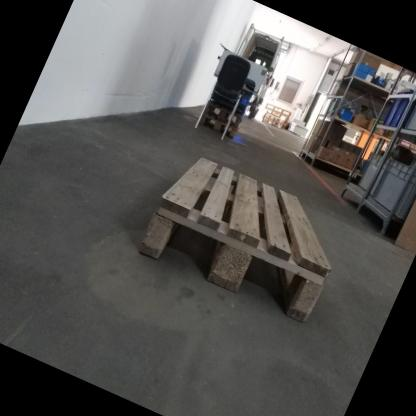BoxFace: (134, 152, 335, 328)
